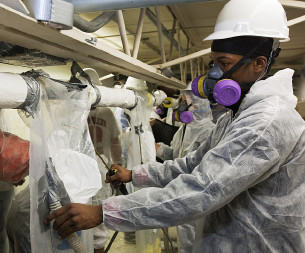face_mask: (208, 46, 250, 102)
